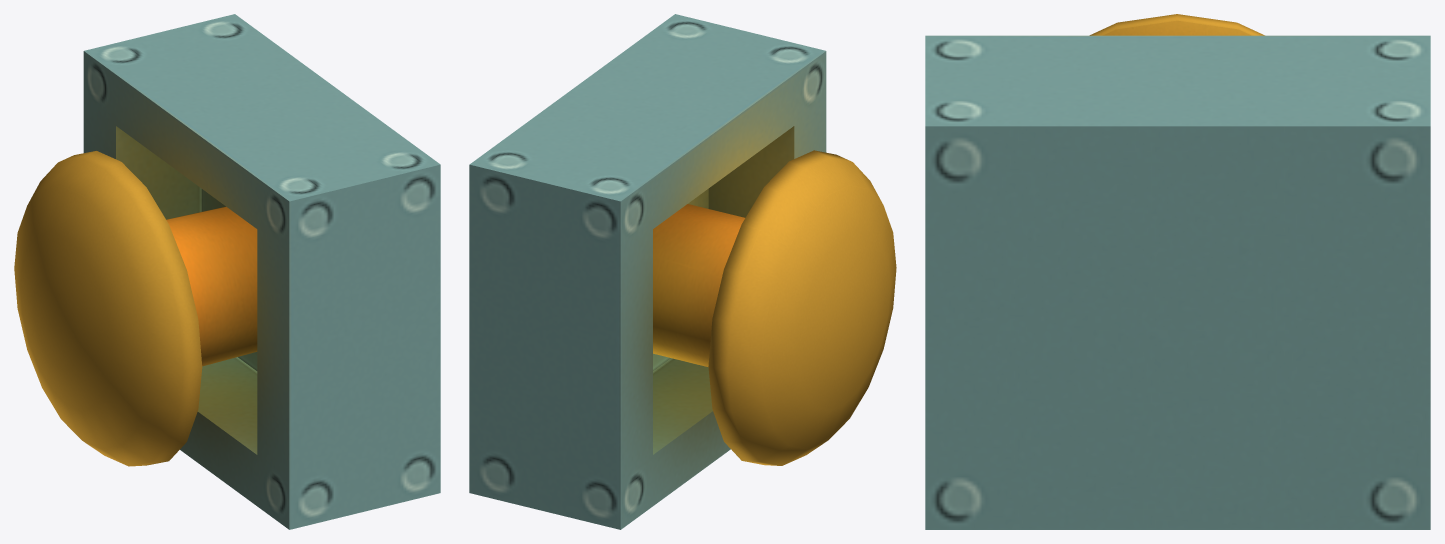
File: switchup_fbx.fbx
3 views of the same model, side by side, from view 1: azimuth 30°, elevation 25°; view 2: azimuth 150°, elevation 25°; view 3: azimuth 270°, elevation 25° (orthographic). The views are drawn at different scales.
Parts seen in each view (by area): view 1: switchup_base, switchup_botton; view 2: switchup_base, switchup_botton; view 3: switchup_base, switchup_botton.
Boxes of the visible parts, x1,y1,x2,y2 form: switchup_base: (83, 14, 440, 529); switchup_botton: (14, 151, 257, 466); switchup_base: (469, 14, 826, 529); switchup_botton: (653, 150, 896, 465); switchup_base: (925, 35, 1430, 529); switchup_botton: (1089, 14, 1264, 35).
Size of the model in its own units: 29.68 by 32.75 by 37.18.
